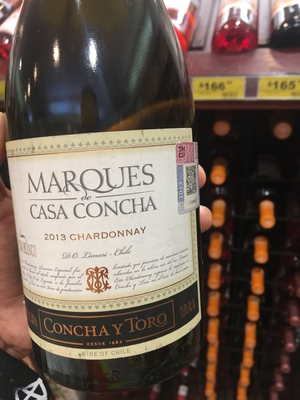marques de casa concha chardonnay: (6, 3, 214, 370)
